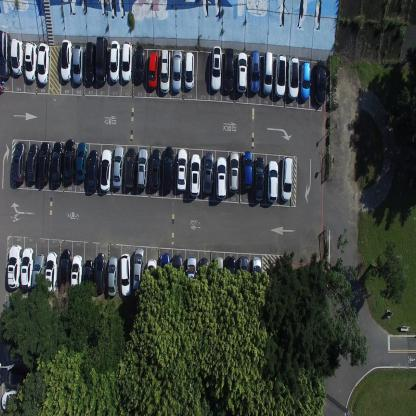car: (7, 244, 22, 289), (1, 390, 32, 411), (95, 36, 108, 85), (31, 252, 45, 297), (37, 140, 51, 184), (12, 140, 26, 184), (162, 145, 175, 191), (280, 156, 293, 201), (63, 138, 76, 183), (119, 252, 132, 297), (21, 246, 34, 291), (266, 160, 279, 204), (112, 145, 125, 189), (99, 148, 112, 192), (70, 254, 83, 298), (45, 250, 58, 294), (252, 156, 264, 203), (314, 59, 326, 106), (136, 146, 149, 189), (189, 152, 201, 198), (51, 141, 63, 186), (5, 345, 32, 365), (0, 31, 11, 80), (24, 41, 37, 82), (4, 368, 32, 387), (287, 55, 299, 99), (274, 53, 286, 97), (121, 40, 133, 84), (60, 38, 72, 82), (224, 254, 236, 298), (133, 247, 145, 291), (176, 148, 188, 191), (150, 148, 162, 191), (37, 42, 49, 85), (211, 46, 222, 92), (236, 51, 248, 93), (72, 43, 84, 85), (262, 51, 273, 96), (223, 47, 234, 92), (95, 251, 106, 296), (216, 155, 227, 199), (202, 151, 213, 195), (249, 50, 260, 94), (109, 38, 120, 82), (159, 252, 170, 296), (83, 258, 94, 302), (60, 248, 71, 292), (75, 141, 87, 181), (26, 142, 38, 182), (134, 44, 146, 84), (125, 147, 136, 190), (87, 150, 98, 193), (186, 256, 197, 298), (11, 37, 23, 75), (160, 48, 170, 93), (242, 150, 253, 190), (85, 41, 95, 85), (213, 254, 223, 298), (146, 258, 157, 298), (107, 256, 118, 296), (172, 254, 182, 297), (228, 152, 238, 194), (172, 50, 182, 92), (252, 256, 262, 298), (238, 256, 248, 298), (148, 49, 158, 90), (199, 257, 209, 298), (300, 61, 310, 101), (184, 51, 194, 90)
